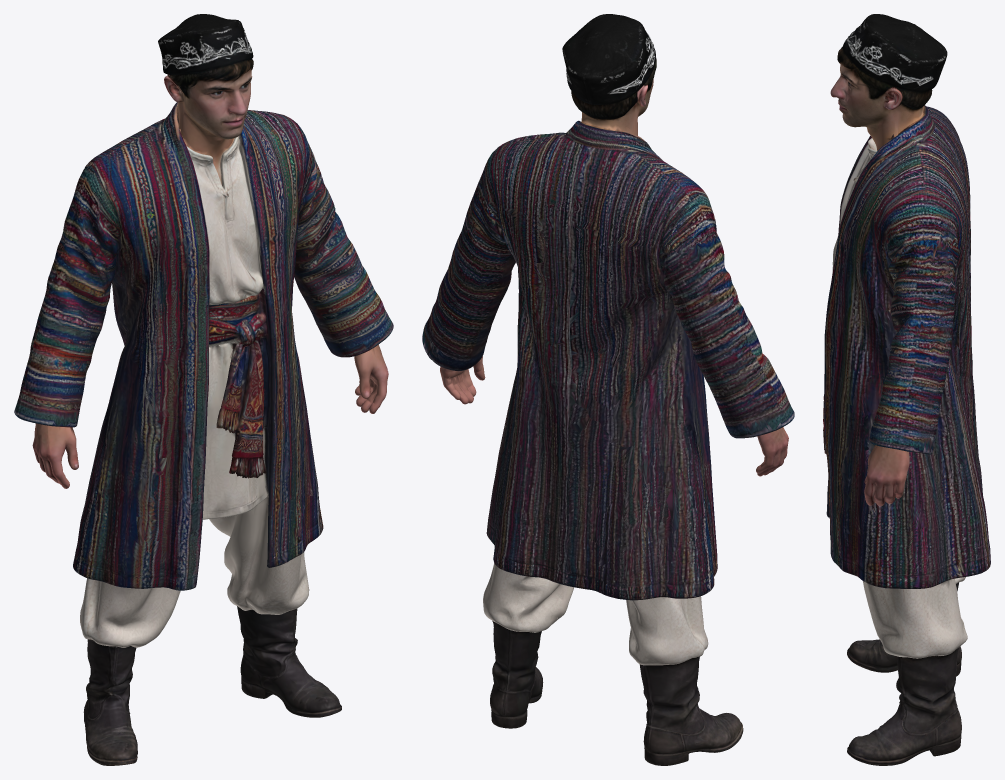
File: main_character.glb
The picture shows the model from 3 angles, left to right: view 1: azimuth 30°, elevation 25°; view 2: azimuth 150°, elevation 25°; view 3: azimuth 270°, elevation 25°; orthographic projection. The views are drawn at different scales.
Parts seen in each view (by area): view 1: MainCharacter_Mesh; view 2: MainCharacter_Mesh; view 3: MainCharacter_Mesh.
Part boxes in pixels (x1=…): MainCharacter_Mesh: x1=14, y1=14, x2=393, y2=765; MainCharacter_Mesh: x1=422, y1=14, x2=794, y2=765; MainCharacter_Mesh: x1=823, y1=14, x2=990, y2=765.
Size of the model in its own units: 0.9552 by 1.75 by 0.3862.
Materials: 1 (1 with a texture image).
